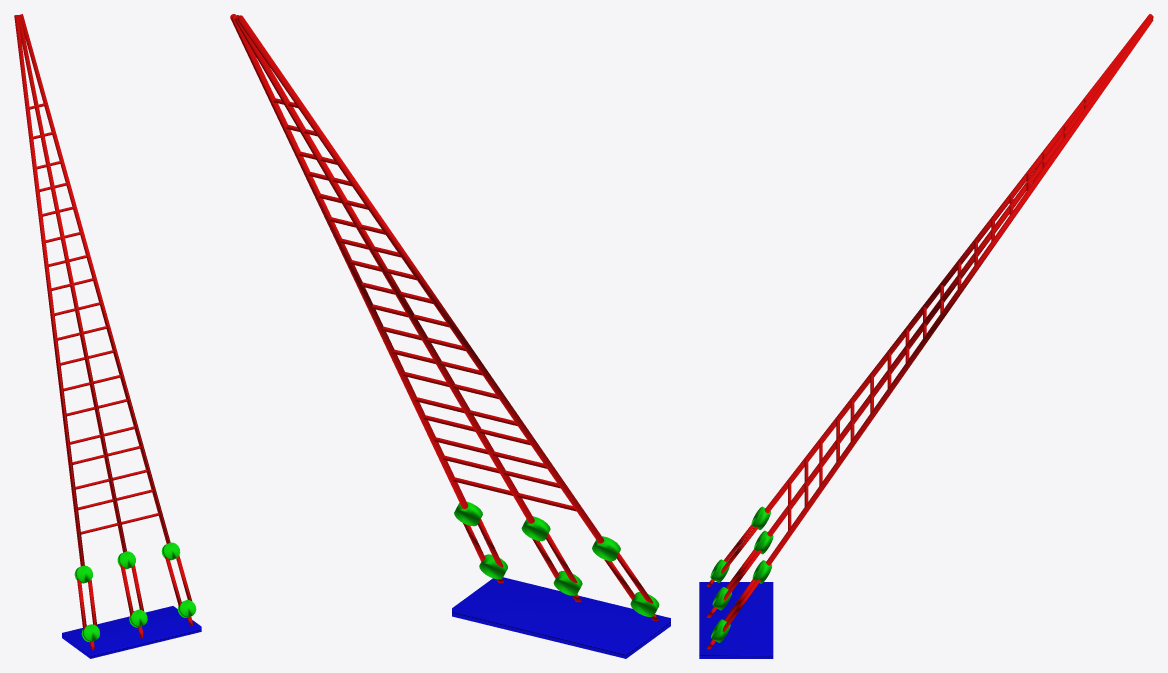
The model's file is 8rope3r.fbx.
3 views of the same model, side by side, from view 1: azimuth 30°, elevation 25°; view 2: azimuth 150°, elevation 25°; view 3: azimuth 270°, elevation 25° (orthographic). The views are drawn at different scales.
Visible parts, largest first — view 1: sr; view 2: sr; view 3: sr.
Boxes of the visible parts, <box> form: sr: <box>14,14,201,658</box>; sr: <box>230,14,670,658</box>; sr: <box>699,14,1153,658</box>.
Bounding box in the file's own units: 227 × 952 × 615.
